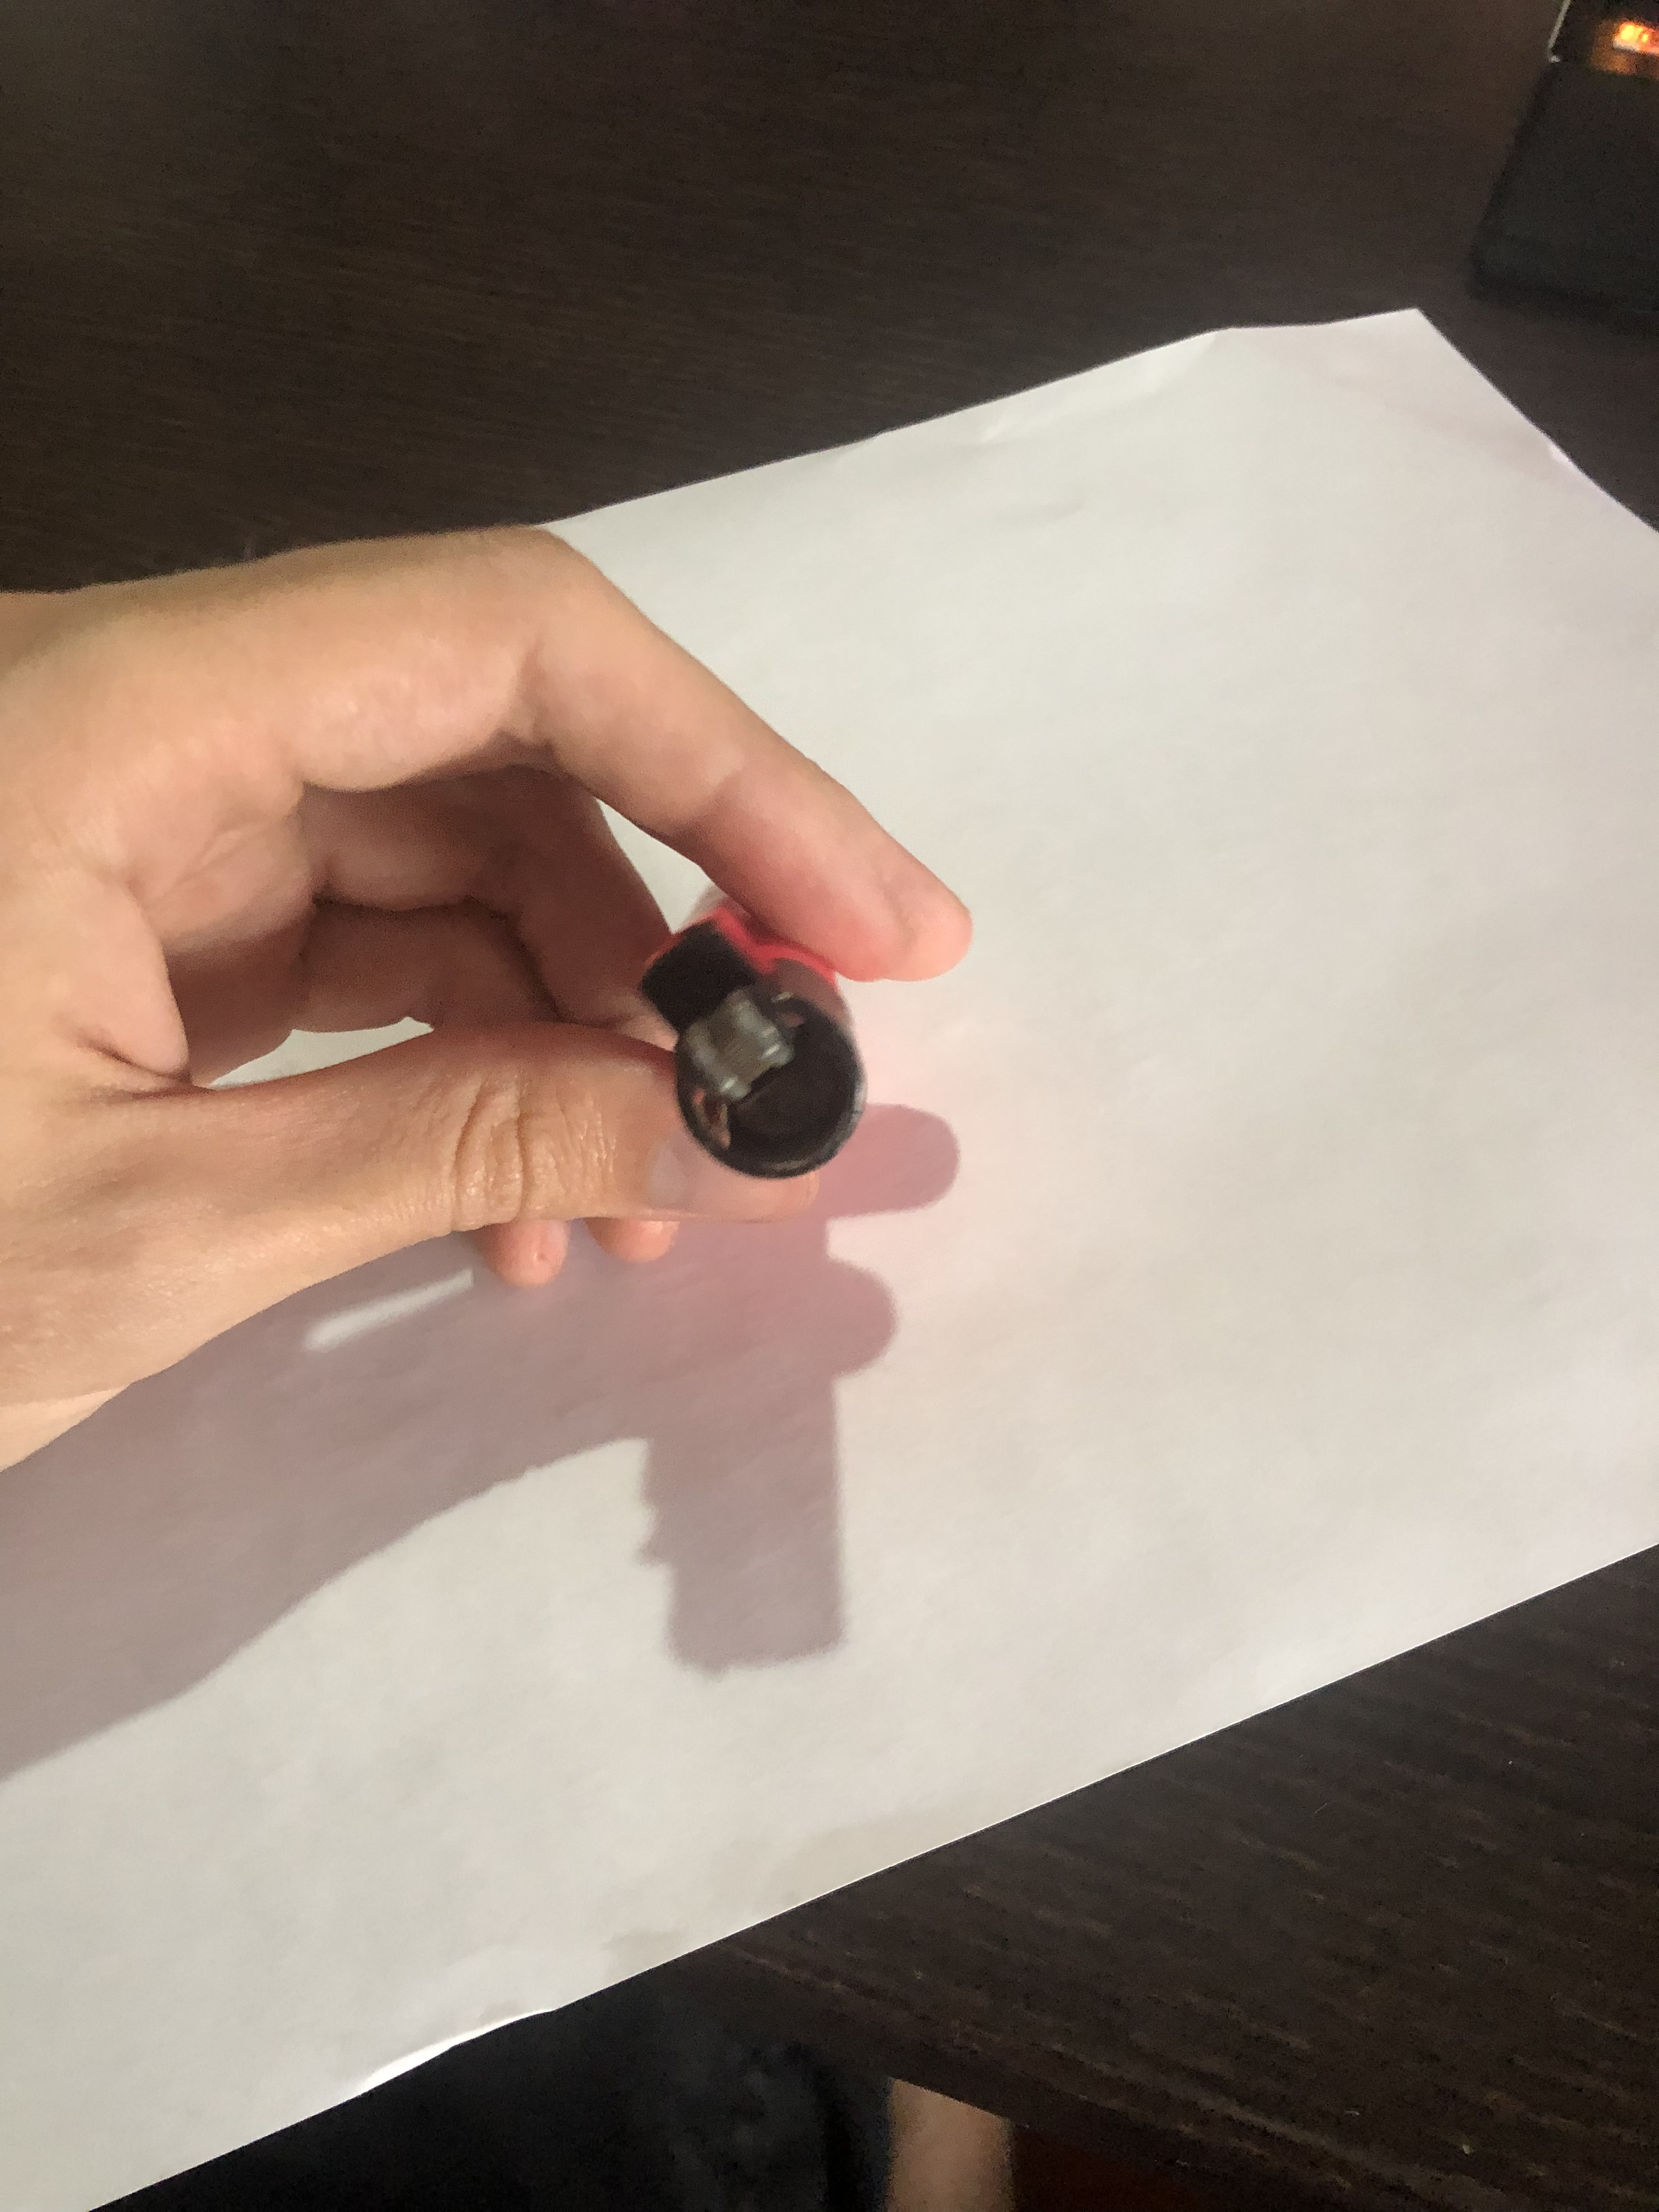Mechero: (643, 874, 892, 1209)
